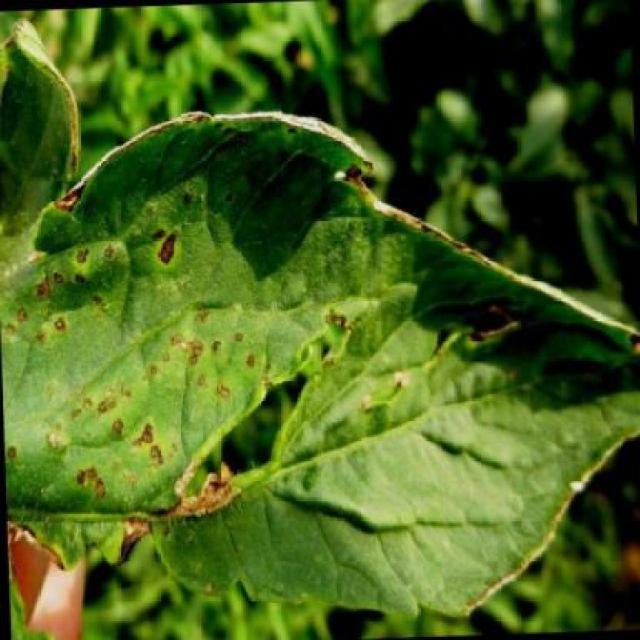Tomato leaf bacterial spot: (0, 94, 631, 640)
